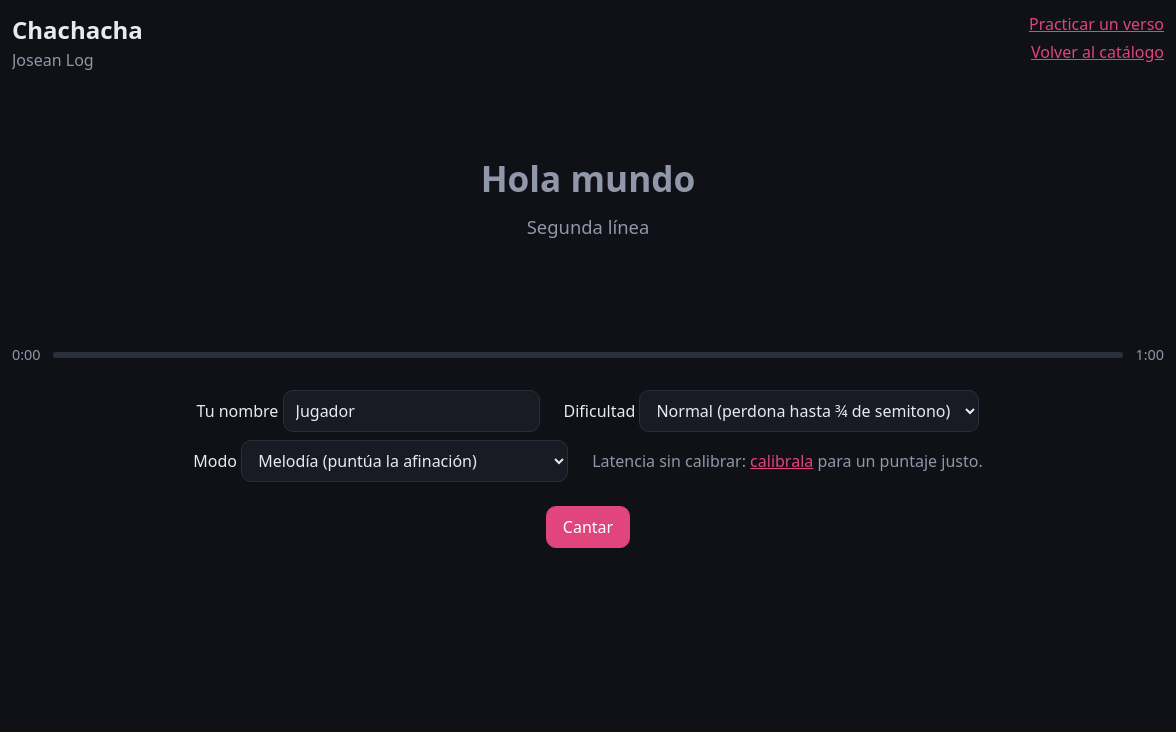
SongPage › explains a line score of {"score":70,"hit":true}
This screenshot has width=1176, height=732.
What coordinates should you click on to do the following:
click the button "Cantar"
I would click on:
 (588, 527)
Its box is [546,506,630,548].
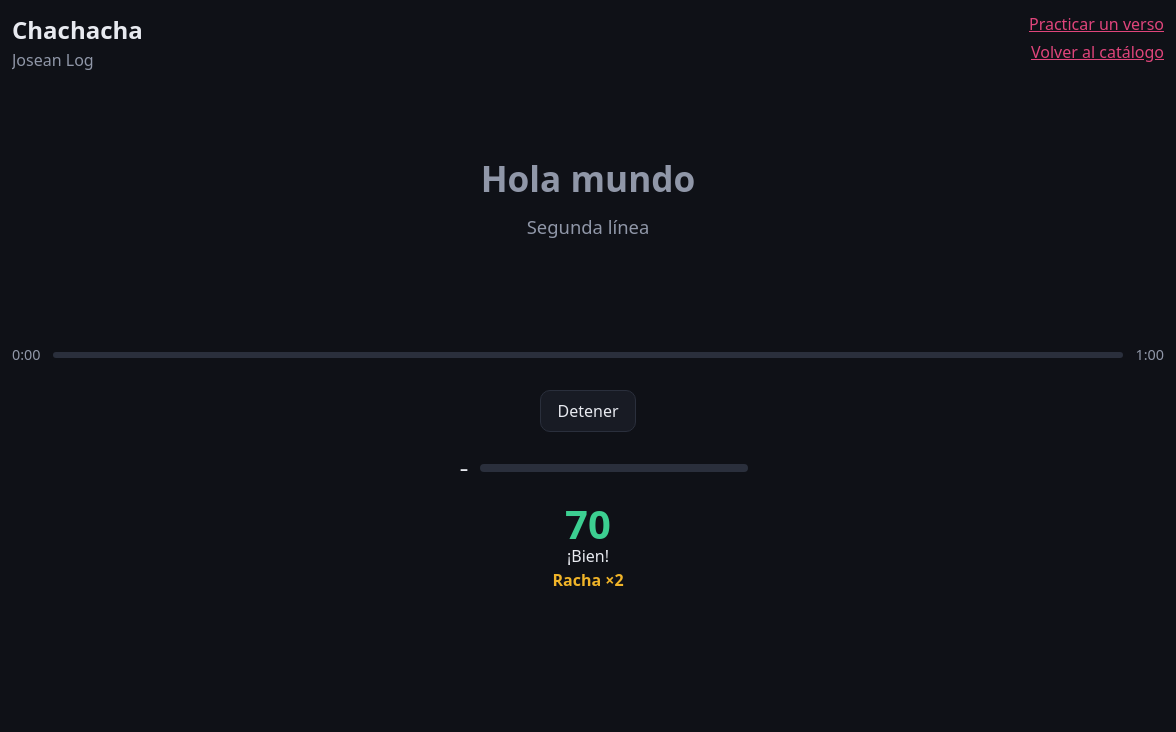
Result: the button "Detener" is shown at [540,390,636,432]
Result: the message named "Puntaje del verso" shows "¡Bien!" at [567,545,609,567]
